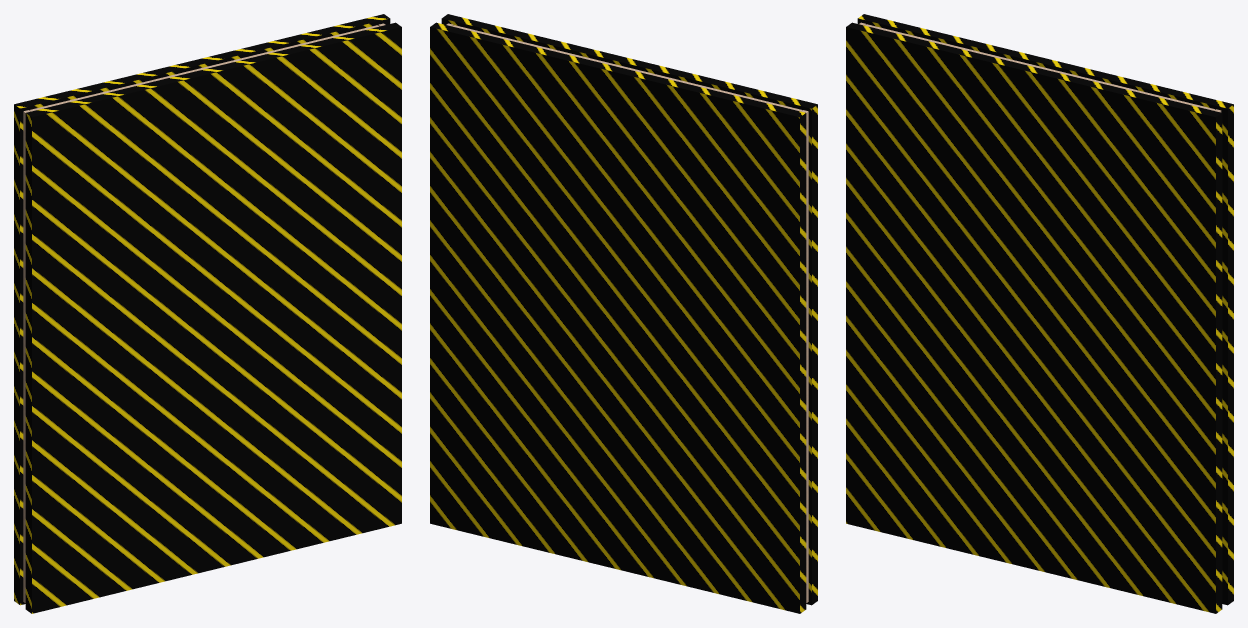
The model's file is WALLSET_T.FBX.
3 views of the same model, side by side, from view 1: azimuth 30°, elevation 25°; view 2: azimuth 150°, elevation 25°; view 3: azimuth 330°, elevation 25° (orthographic).
Parts seen in each view (by area): view 1: SELECTOR_06, FRAME_42; view 2: SELECTOR_06, FRAME_42; view 3: SELECTOR_06, FRAME_42.
Boxes of the visible parts, x1,y1,x2,y2 form: SELECTOR_06: [14, 14, 401, 613]; FRAME_42: [23, 23, 385, 602]; SELECTOR_06: [430, 14, 817, 613]; FRAME_42: [446, 23, 808, 602]; SELECTOR_06: [846, 14, 1233, 613]; FRAME_42: [859, 22, 1221, 112].
Size of the model in its own units: 70.39 by 90.28 by 5.88.
